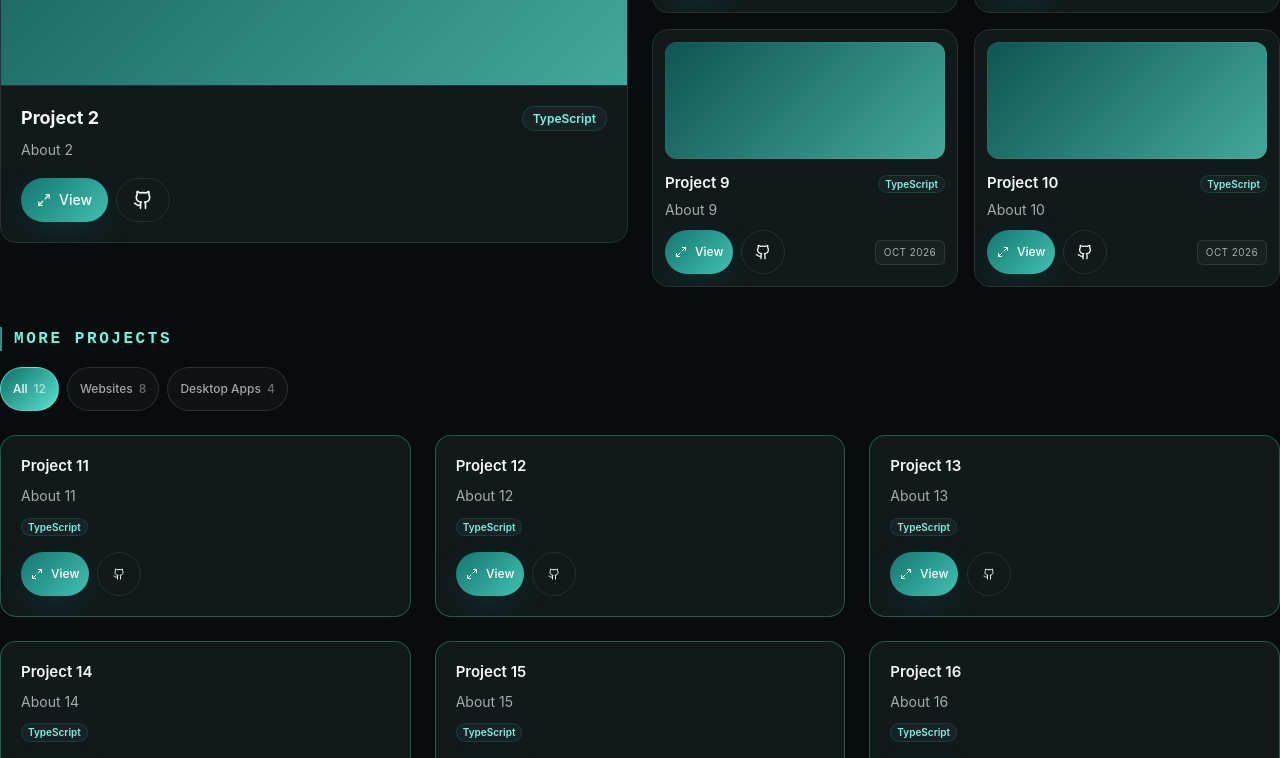
Test: ProjectsBrowser categories and responsive limits › keeps reduced-motion projects static and filters usable
(page scrolled)
Click the button "Desktop Apps4": (228, 389) [167,367,288,411]
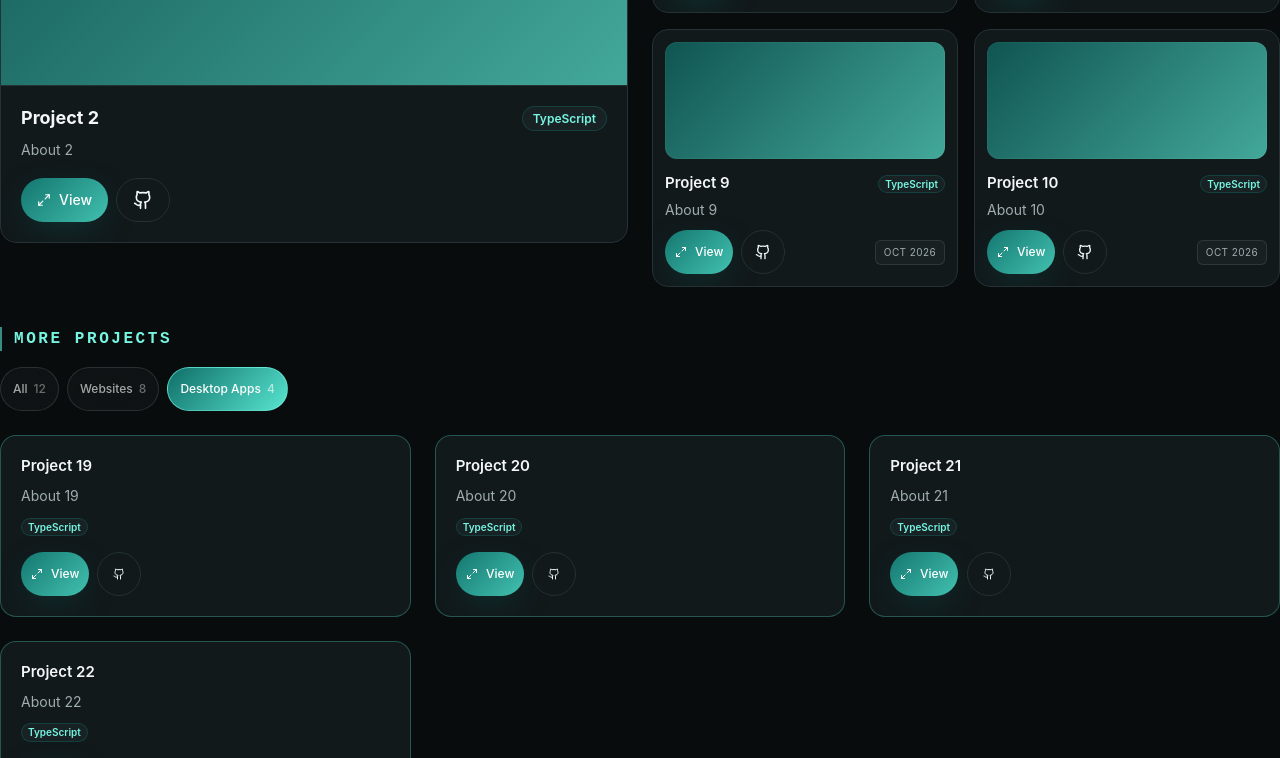
Expected: the heading "Project 19" is shown, [21,456,92,477]
